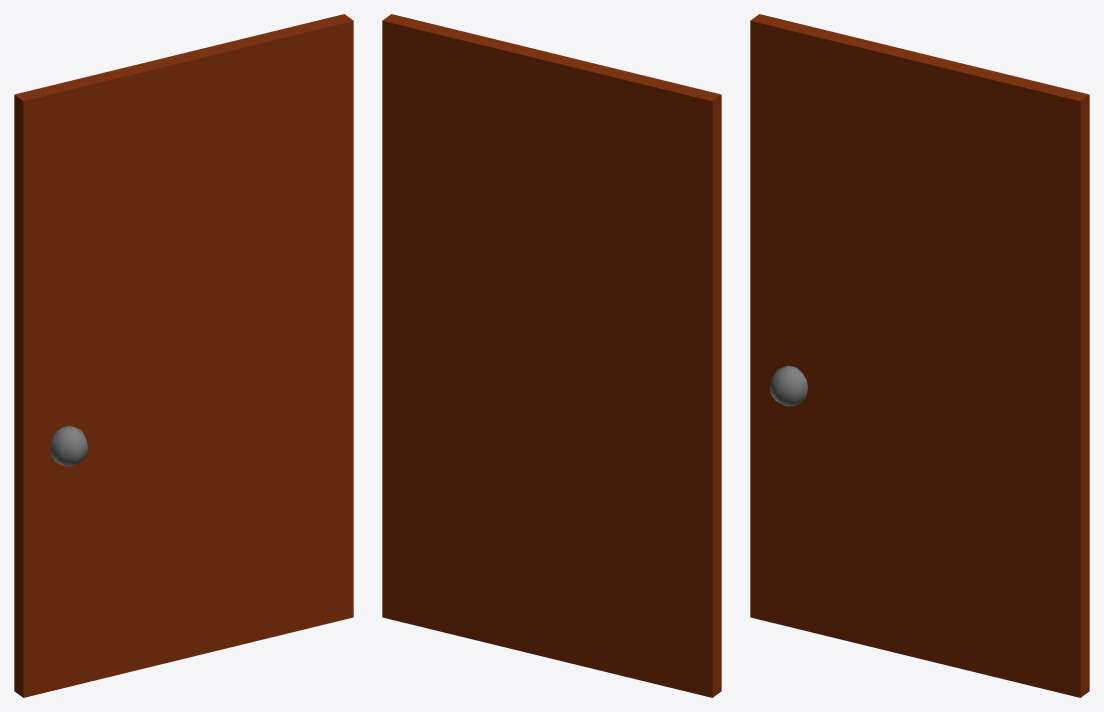
The model's file is home_door.fbx.
The picture shows the model from 3 angles, left to right: view 1: azimuth 30°, elevation 25°; view 2: azimuth 150°, elevation 25°; view 3: azimuth 330°, elevation 25°; orthographic projection.
Visible parts, largest first — view 1: home_door; view 2: home_door; view 3: home_door.
Boxes of the visible parts, bbox=[...] form: home_door: bbox=[14, 14, 353, 697]; home_door: bbox=[382, 14, 721, 697]; home_door: bbox=[750, 14, 1089, 697].
Bounding box in the file's own units: 77.59 × 134 × 9.05.
